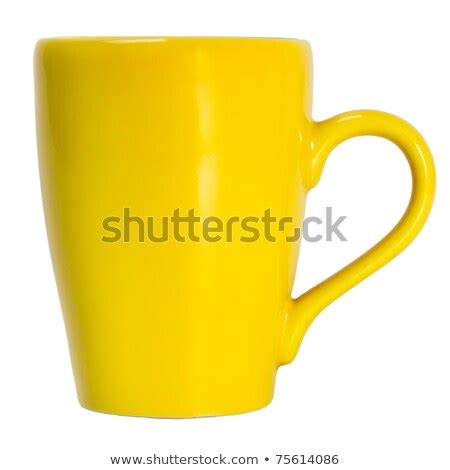???: (33, 36, 437, 419)
